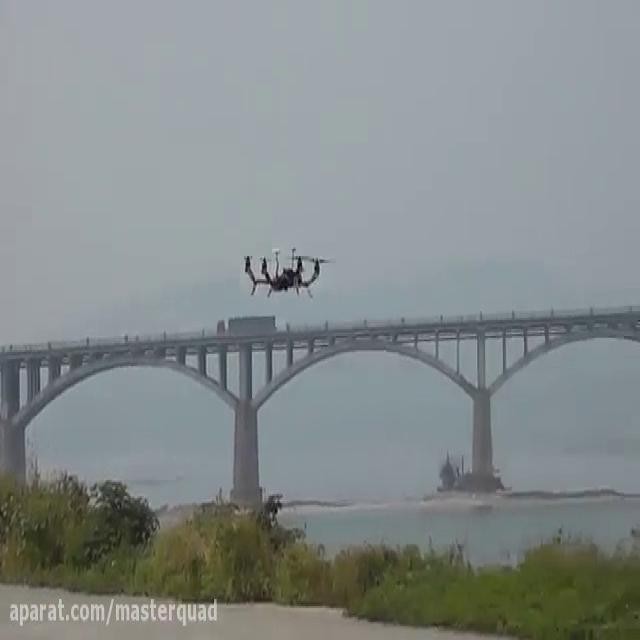drone: (237, 244, 338, 298)
